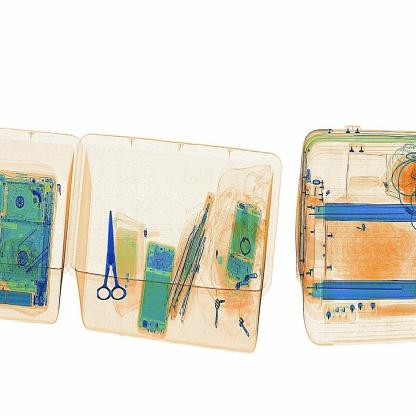gun: (96, 202, 140, 312)
